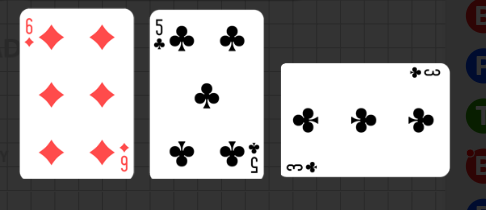3C: (407, 66, 442, 81)
5C: (246, 140, 261, 175)
6D: (24, 17, 36, 50)
